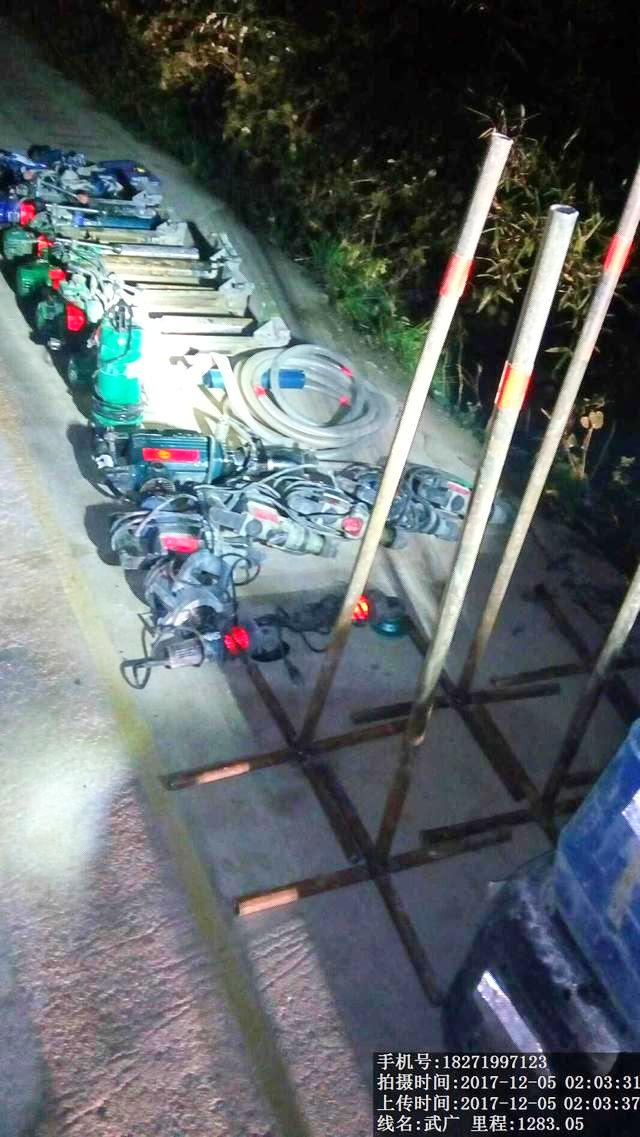DMJ: (139, 616, 290, 672)
